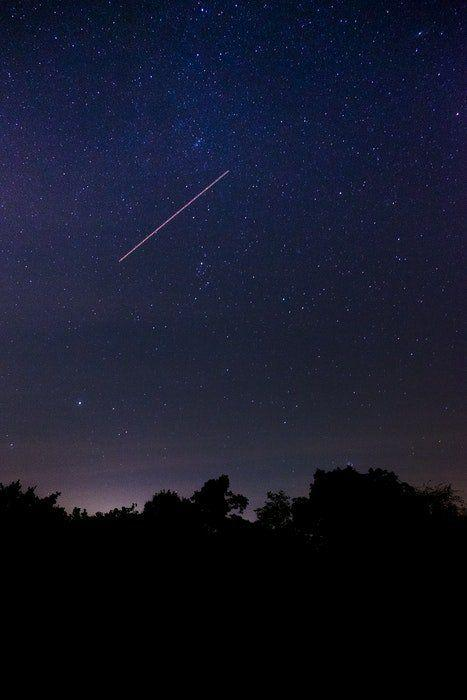meteor: (109, 249, 136, 277)
